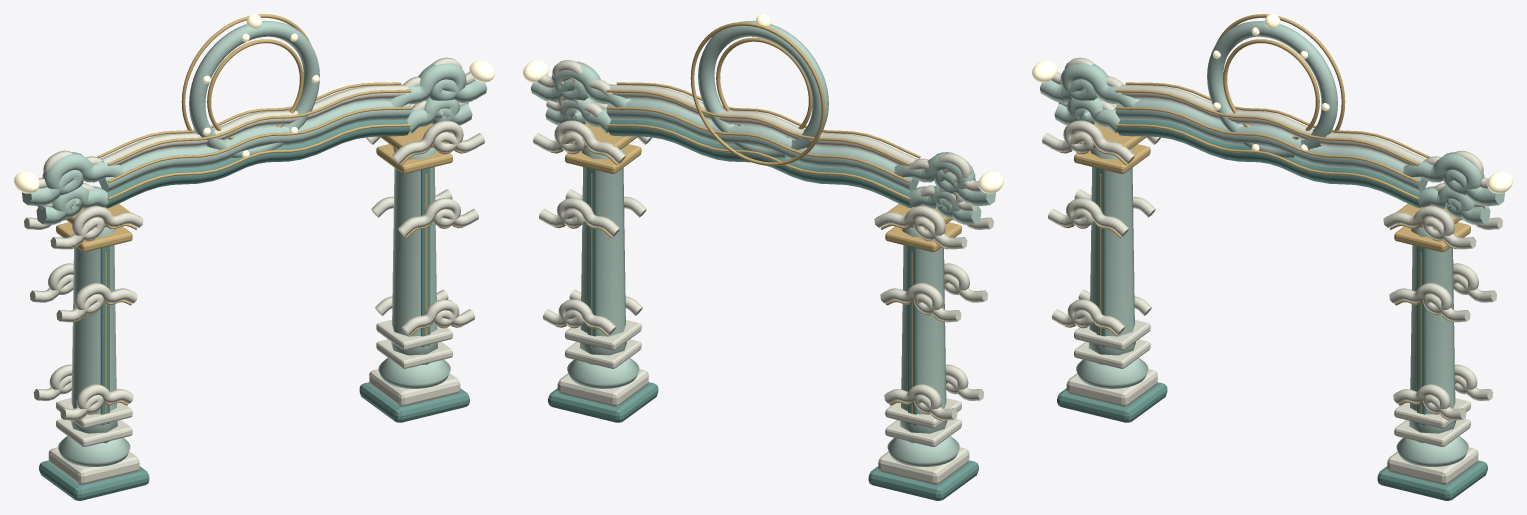
The model's file is cloud_gate.glb.
The picture shows the model from 3 angles, left to right: view 1: azimuth 30°, elevation 25°; view 2: azimuth 150°, elevation 25°; view 3: azimuth 330°, elevation 25°; orthographic projection.
Parts seen in each view (by area): view 1: cloud_gate; view 2: cloud_gate; view 3: cloud_gate.
Boxes of the visible parts, bbox=[...] form: cloud_gate: bbox=[14, 14, 494, 500]; cloud_gate: bbox=[523, 14, 1003, 500]; cloud_gate: bbox=[1032, 14, 1512, 500].
Size of the model in its own units: 7 by 6 by 1.02.
2 materials, 2 textured.
